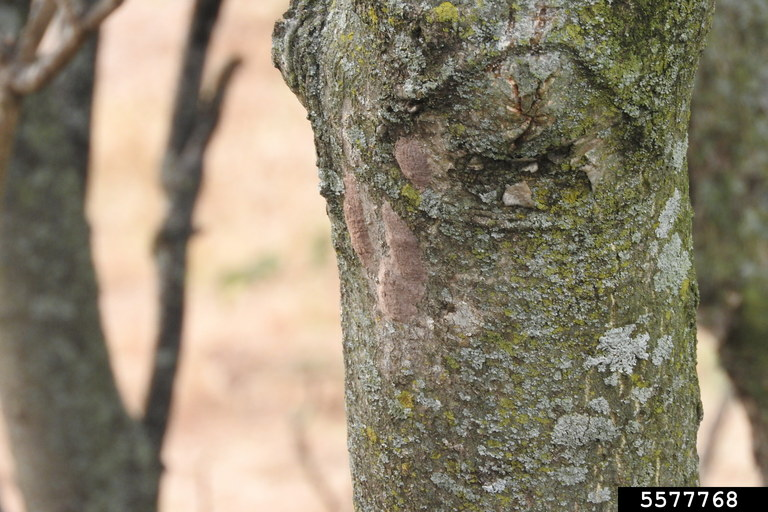egg masses: (380, 200, 425, 278), (342, 174, 377, 269), (392, 133, 430, 186), (381, 278, 418, 332)
